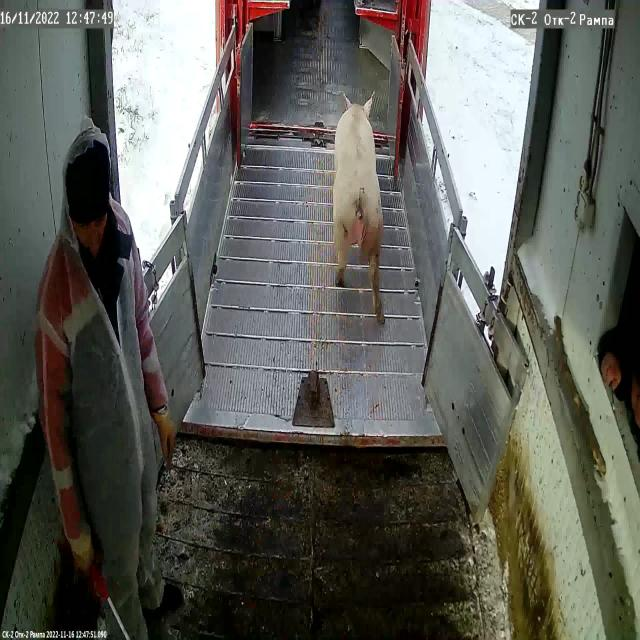pig: (333, 98, 382, 312)
